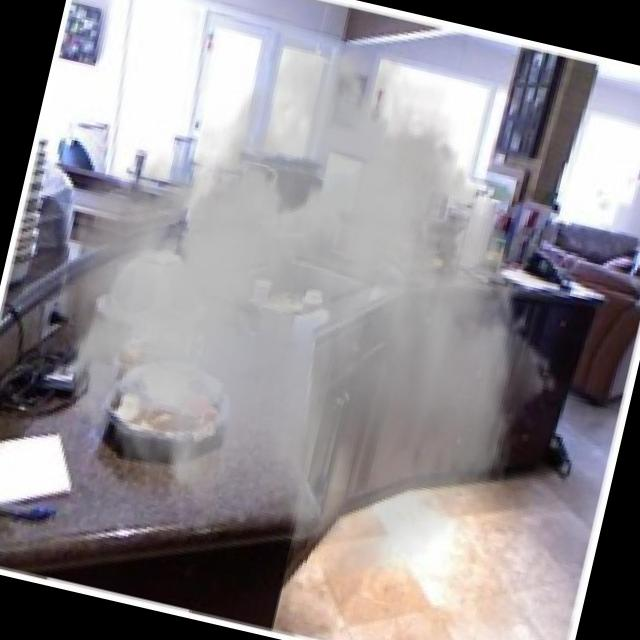Smoke: (1, 0, 628, 621)
